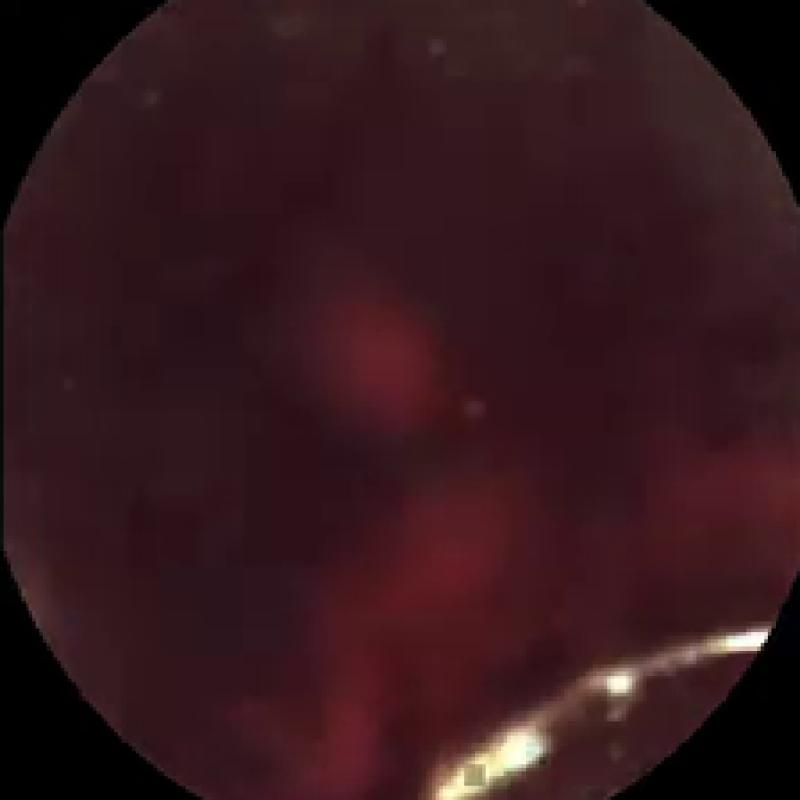bleeding: (256, 445, 800, 786), (318, 254, 439, 439)
